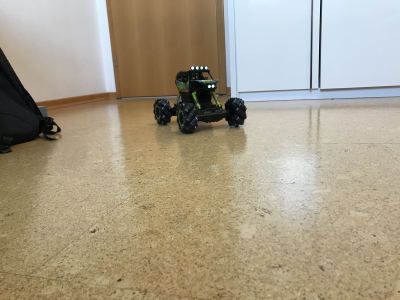remote control car: (145, 62, 249, 135)
